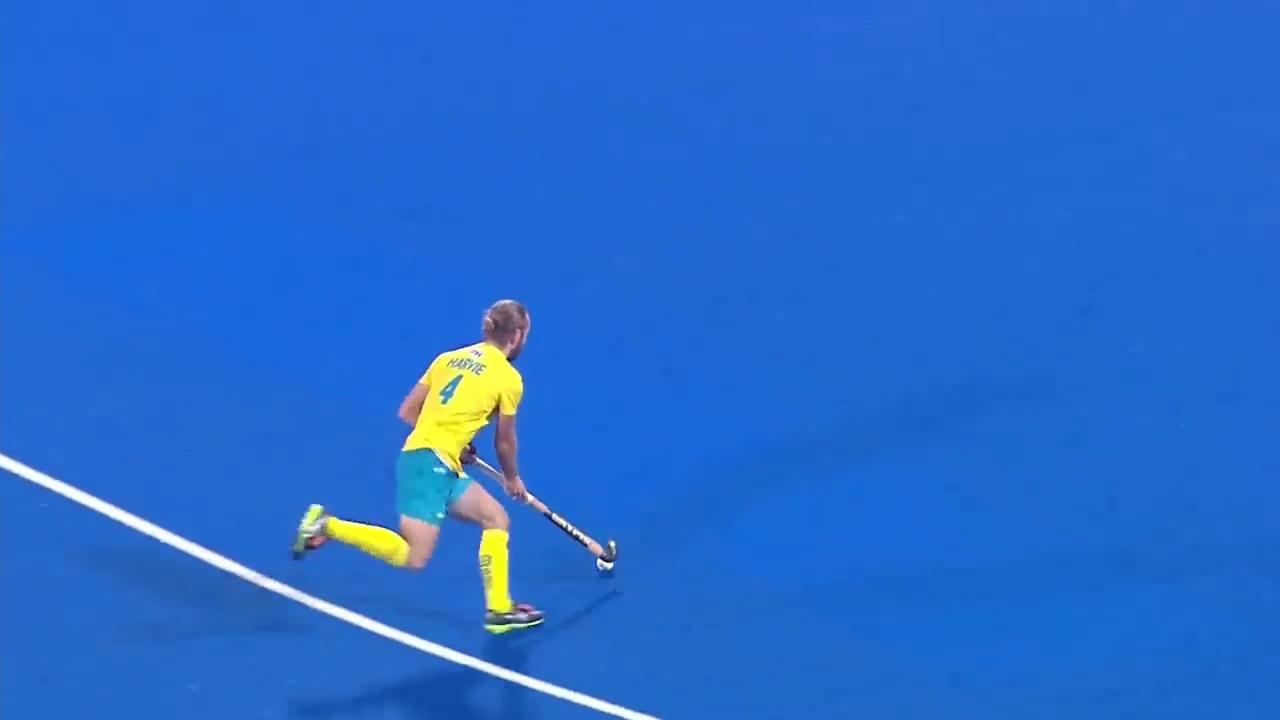ball: (587, 535, 640, 587)
